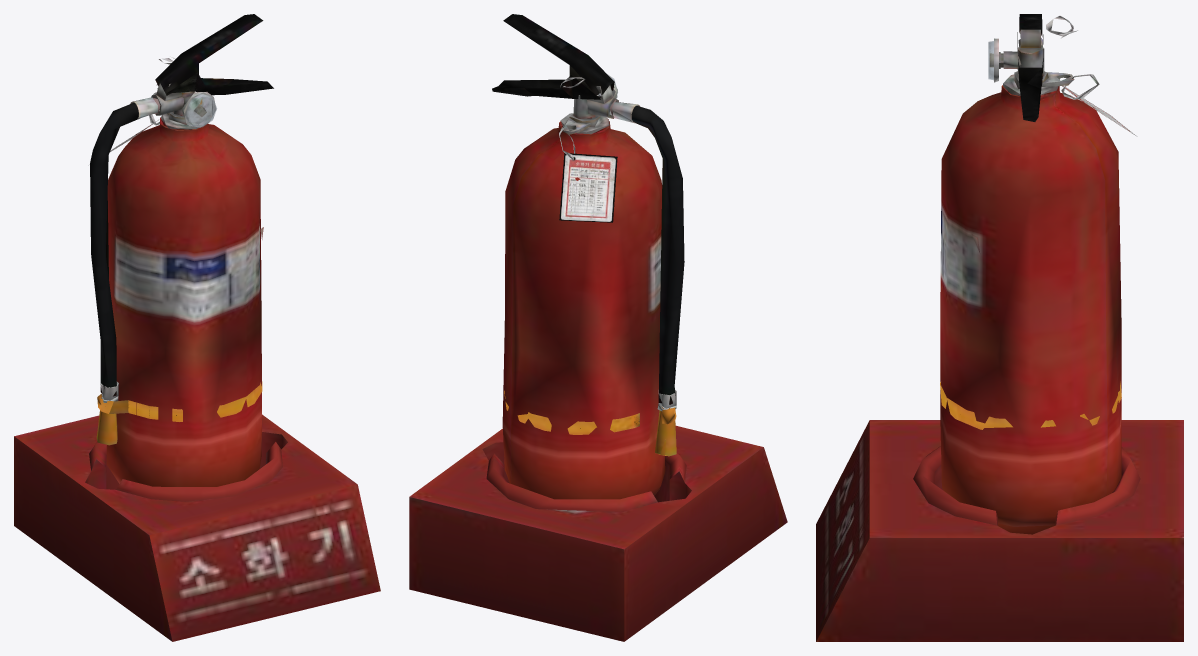
File: korean_fire_extinguisher_01.glb
3 views of the same model, side by side, from view 1: azimuth 30°, elevation 25°; view 2: azimuth 150°, elevation 25°; view 3: azimuth 270°, elevation 25° (orthographic). The views are drawn at different scales.
Parts seen in each view (by area): view 1: korean_fire_extinguisher_01; view 2: korean_fire_extinguisher_01; view 3: korean_fire_extinguisher_01.
Boxes of the visible parts, x1,y1,x2,y2 form: korean_fire_extinguisher_01: [14, 14, 380, 641]; korean_fire_extinguisher_01: [409, 14, 787, 641]; korean_fire_extinguisher_01: [816, 14, 1183, 641].
Bounding box in the file's own units: 0.279 × 0.6581 × 0.3674.
3 materials, 3 textured.
